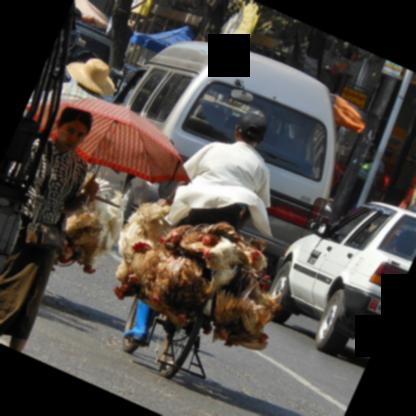handbag: (23, 139, 63, 251)
